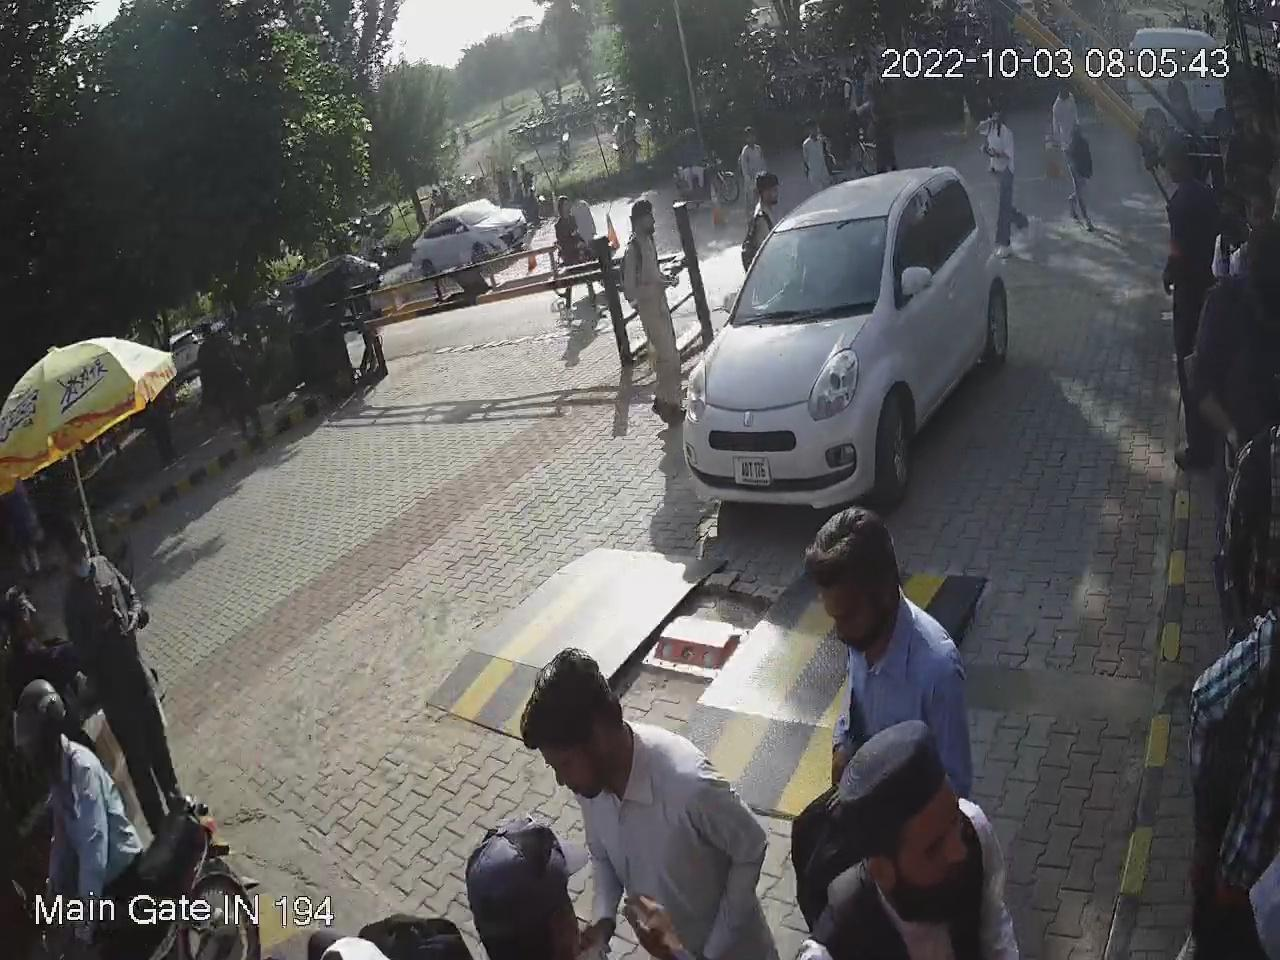windshield: (731, 205, 905, 328)
